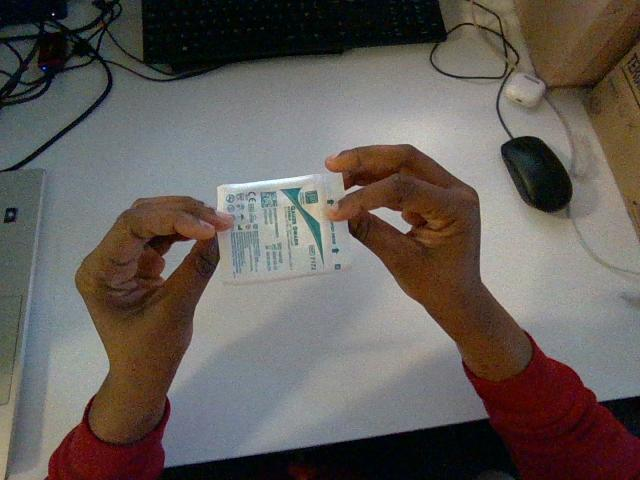gauze: (217, 173, 350, 284)
